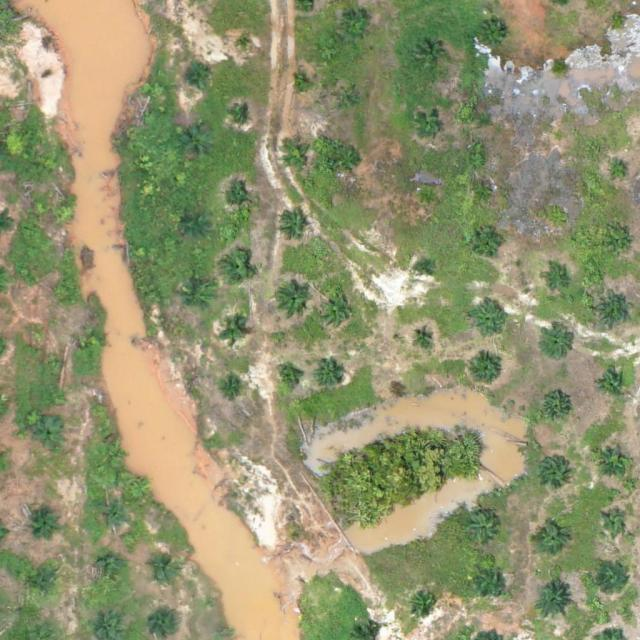Small: (535, 583, 574, 623), (595, 291, 635, 330), (594, 440, 633, 480), (469, 300, 508, 340), (276, 280, 315, 320), (467, 352, 506, 391), (317, 292, 356, 331), (336, 145, 367, 177), (599, 564, 630, 596), (535, 524, 566, 556), (542, 328, 573, 360), (469, 515, 500, 547), (476, 567, 507, 599), (540, 391, 571, 423), (597, 369, 628, 401), (473, 226, 504, 258), (281, 141, 312, 173), (31, 505, 62, 536), (98, 502, 129, 533), (35, 420, 66, 451), (96, 555, 127, 586), (150, 555, 181, 586), (538, 456, 569, 487), (410, 588, 441, 619), (30, 570, 61, 601), (224, 186, 255, 217), (223, 254, 254, 285), (278, 212, 309, 243), (316, 360, 347, 391), (480, 21, 511, 52), (416, 108, 447, 139), (416, 41, 447, 72), (341, 13, 372, 44), (183, 128, 214, 159), (184, 285, 215, 316), (544, 269, 568, 293), (103, 444, 127, 468), (222, 319, 246, 343), (222, 376, 246, 400), (277, 365, 301, 389), (43, 351, 67, 375), (49, 280, 73, 304), (53, 202, 77, 226), (185, 66, 209, 90), (609, 234, 632, 258), (603, 511, 626, 535), (414, 326, 437, 350), (83, 327, 106, 351), (416, 186, 440, 209), (337, 89, 361, 112), (185, 215, 208, 239), (474, 182, 497, 206), (611, 12, 627, 28), (552, 130, 568, 146), (611, 165, 627, 180), (417, 262, 433, 277), (293, 76, 308, 92), (234, 108, 250, 123), (238, 38, 253, 53)
